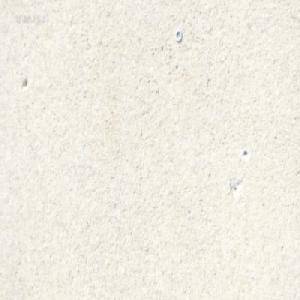Washer: (175, 28, 182, 43)
